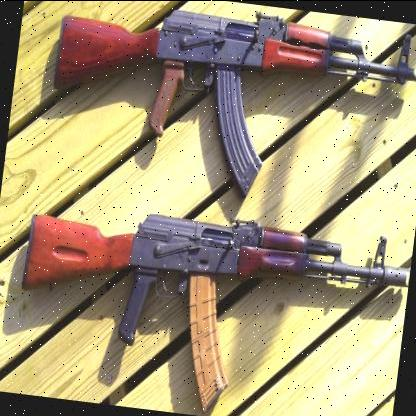rifle: (3, 177, 416, 416), (37, 0, 416, 218)
